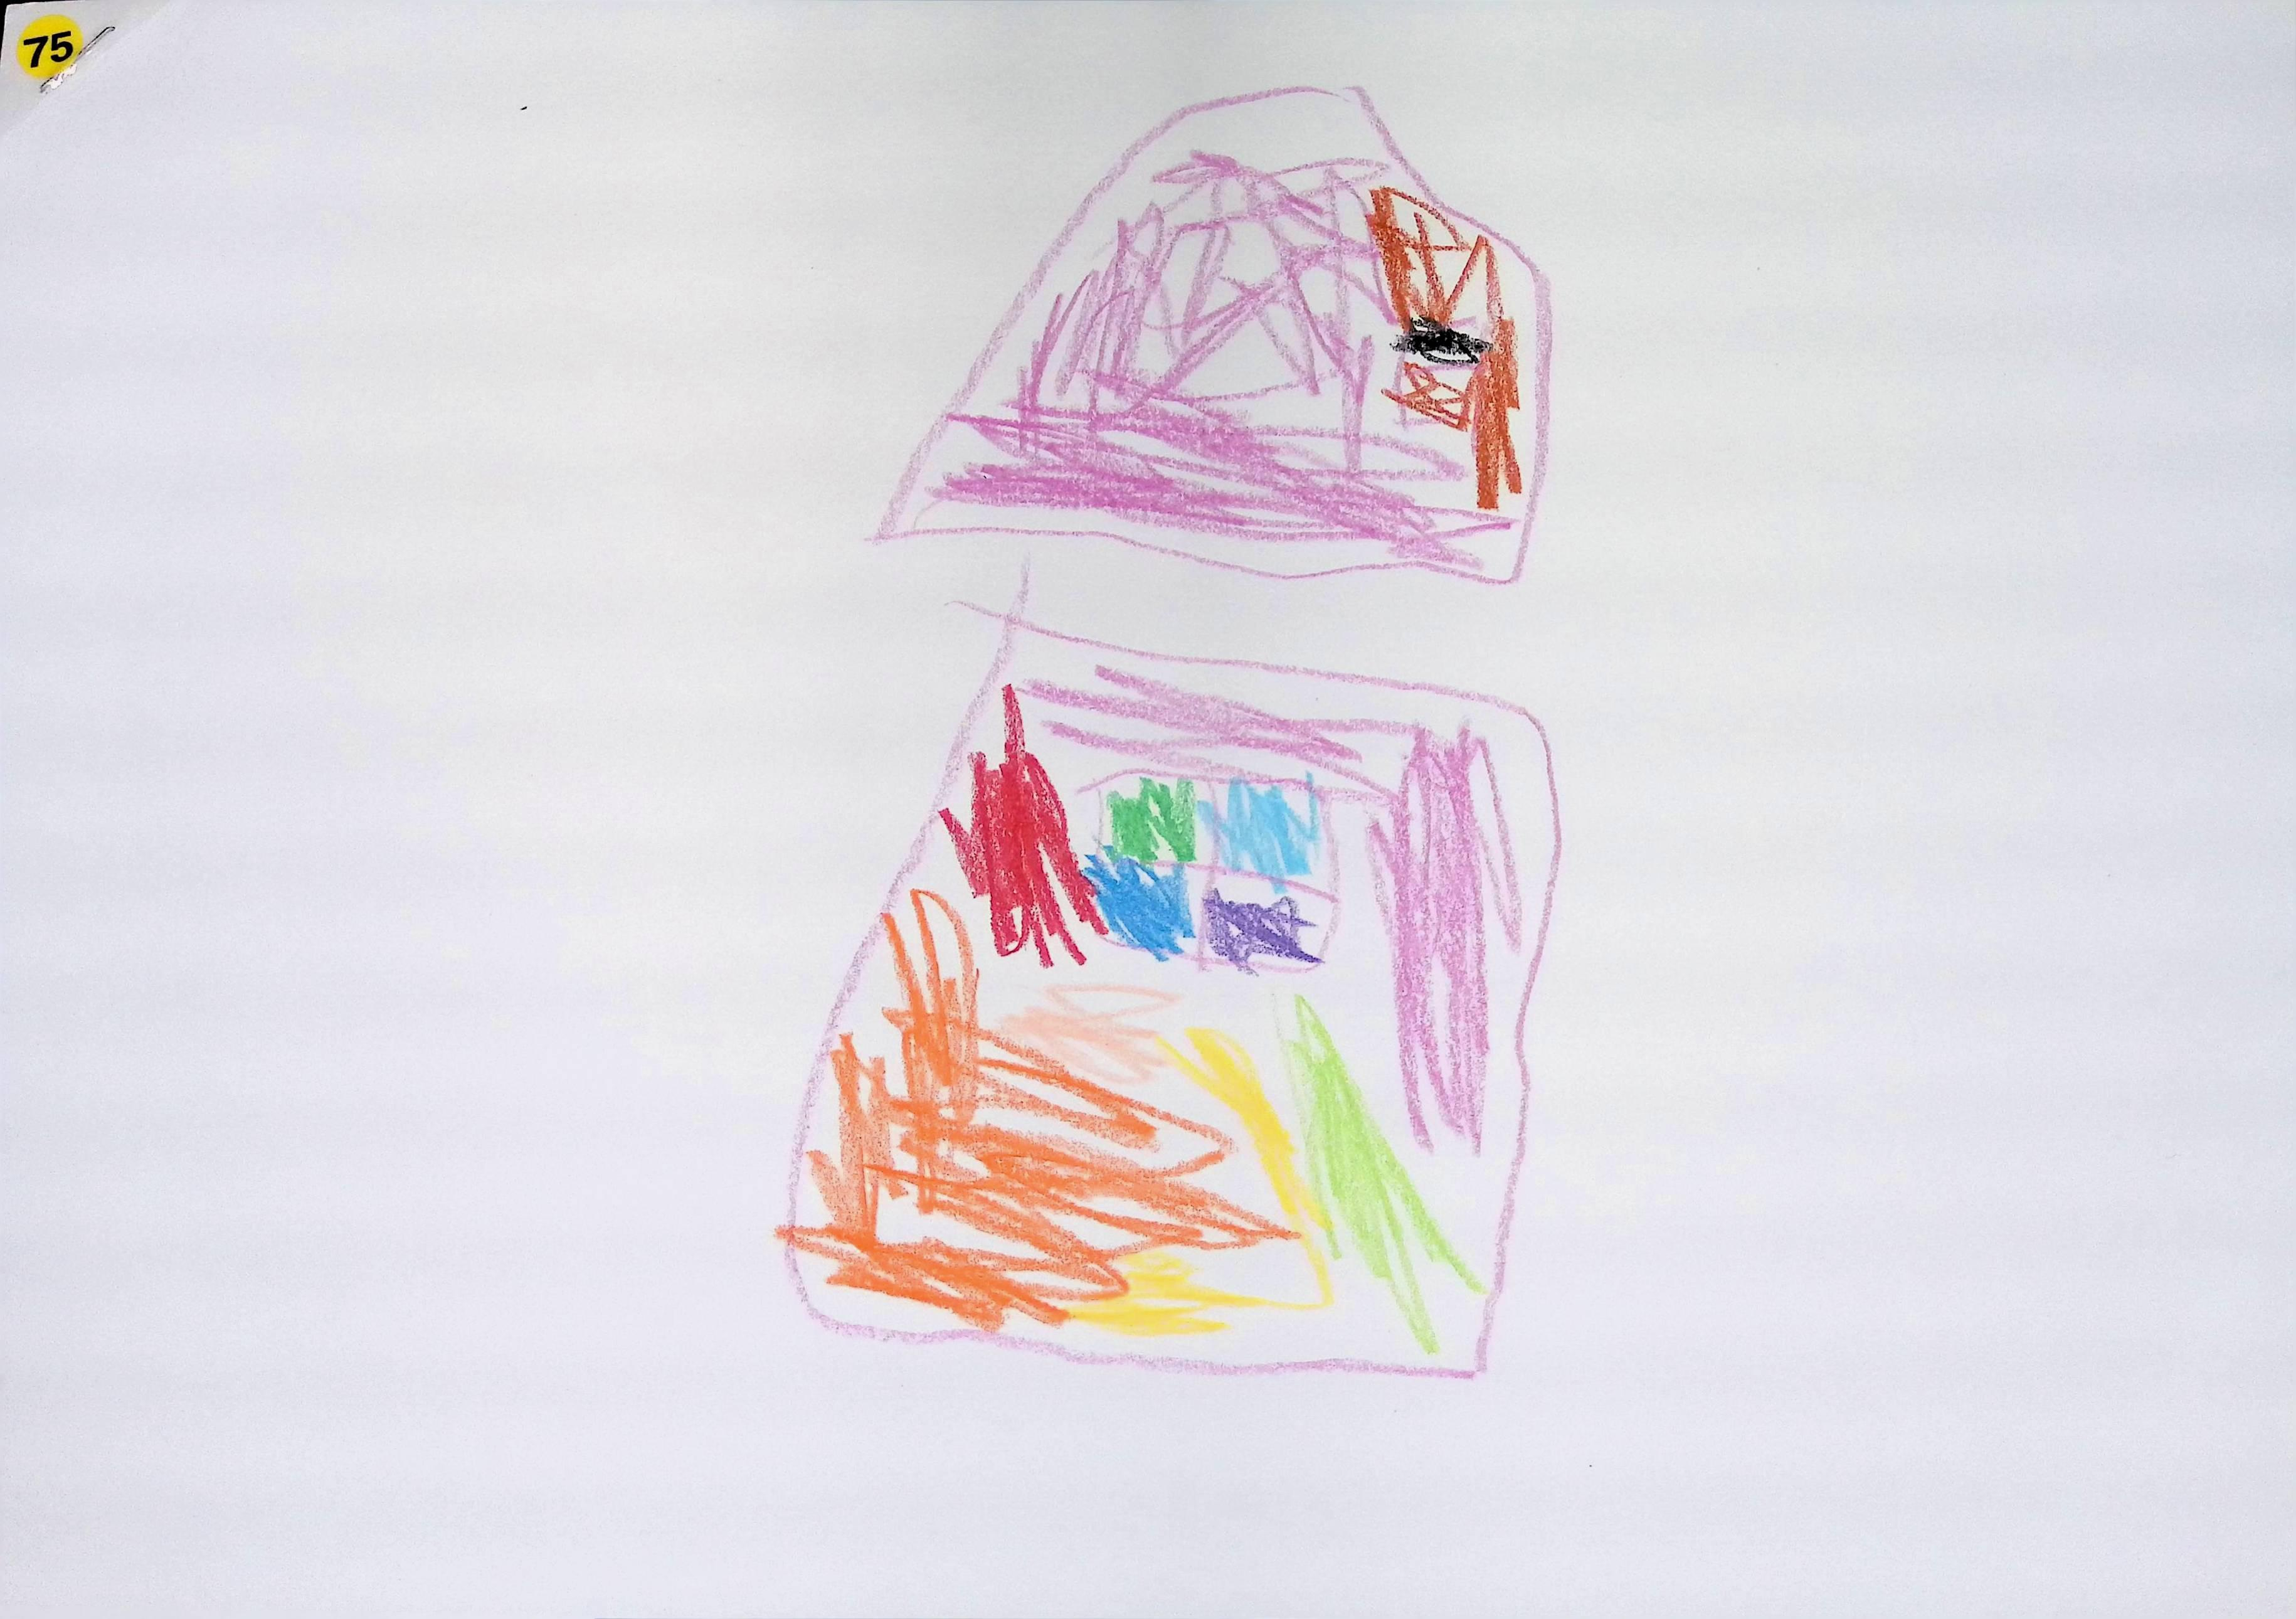roof: (879, 86, 1552, 580)
wall: (778, 589, 1560, 1375)
window: (1060, 745, 1347, 976)
